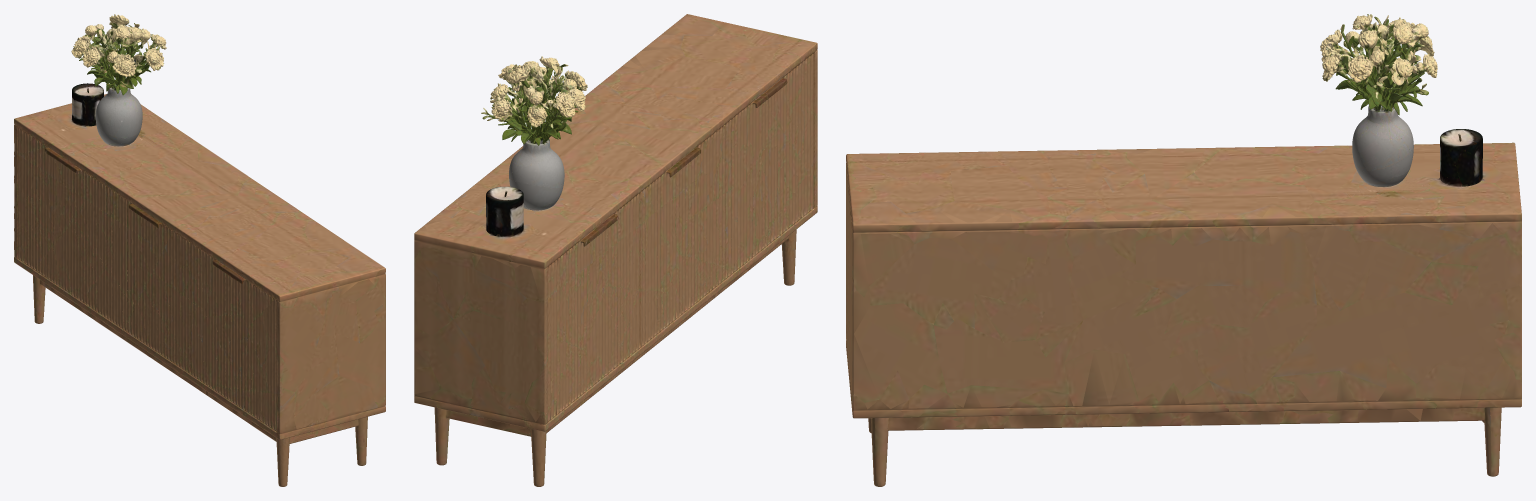
Rendered from room_dresser.glb.
3 renders of one model, left to right at view 1: azimuth 30°, elevation 25°; view 2: azimuth 150°, elevation 25°; view 3: azimuth 270°, elevation 25°, orthographic. The views are drawn at different scales.
Parts seen in each view (by area): view 1: mesh_node.001; view 2: mesh_node.001; view 3: mesh_node.001.
Part boxes in pixels (left/top/right/bottom): mesh_node.001: left=14, top=14, right=385, bottom=486; mesh_node.001: left=414, top=14, right=817, bottom=486; mesh_node.001: left=846, top=14, right=1521, bottom=486.
Size of the model in its own units: 0.4628 by 1.12 by 1.58.
1 material, 1 textured.
